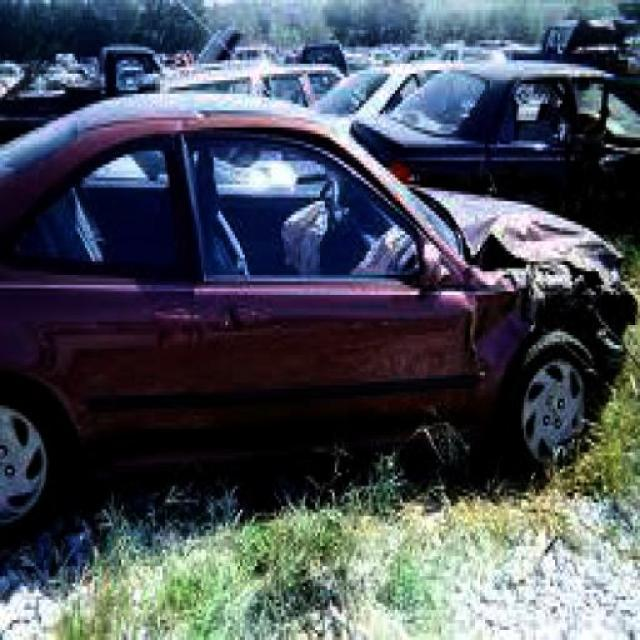car damage: (420, 180, 640, 405)
